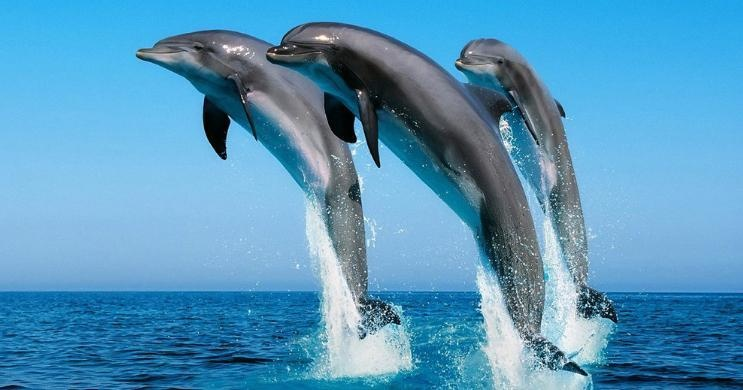fish: (266, 18, 588, 381), (128, 24, 405, 340), (450, 31, 624, 322)
